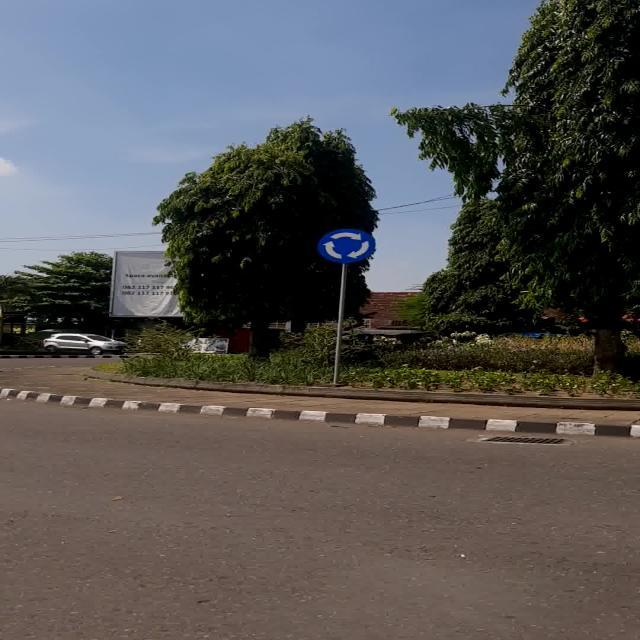Ikuti Bundaran: (318, 228, 376, 263)
